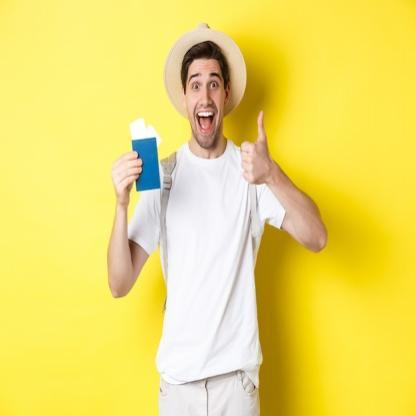thumb_up: (238, 110, 274, 185)
